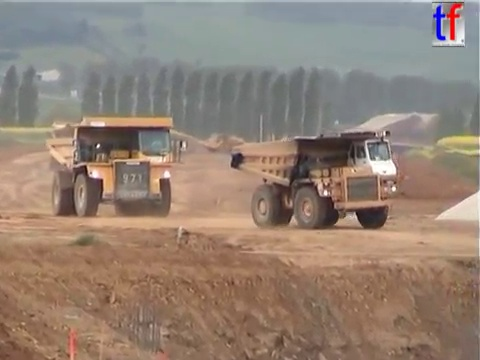truck: (228, 128, 402, 229), (44, 114, 189, 218)
